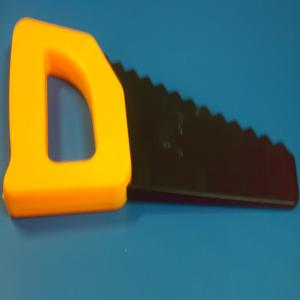serrote: (2, 16, 299, 220)
